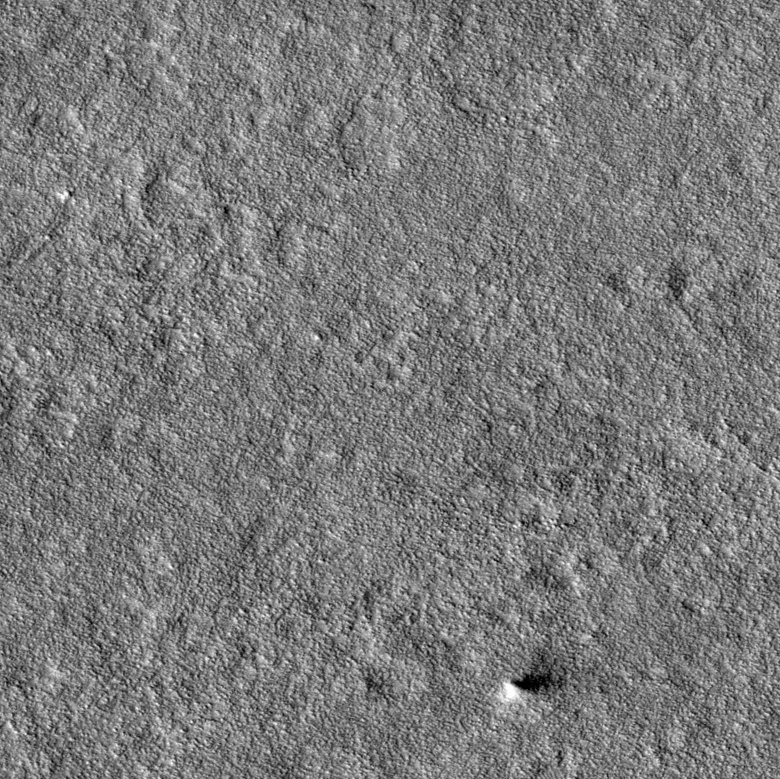dust_devil: (501, 671, 554, 702)
